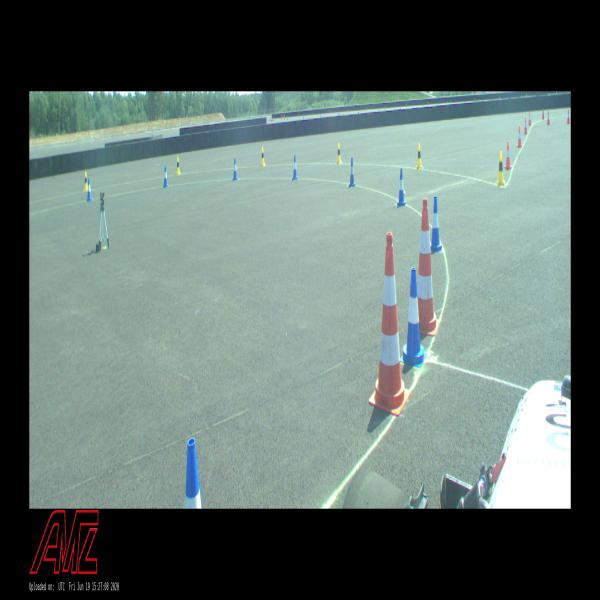blue_cone: (401, 268, 427, 366), (430, 196, 442, 252), (397, 168, 406, 205), (348, 157, 356, 187), (292, 155, 298, 180), (232, 157, 238, 180), (86, 178, 92, 201), (163, 166, 169, 187)
large_orange_cone: (368, 232, 411, 417), (418, 198, 439, 335)
orange_cone: (504, 141, 512, 169), (517, 126, 522, 146), (524, 117, 528, 134), (566, 108, 570, 124), (547, 110, 550, 124), (528, 112, 531, 125)
unknown_cone: (542, 108, 544, 119)
yellow_cone: (496, 152, 505, 186), (416, 143, 423, 169), (336, 142, 341, 164), (176, 156, 181, 175), (261, 146, 265, 166), (84, 171, 88, 190)
